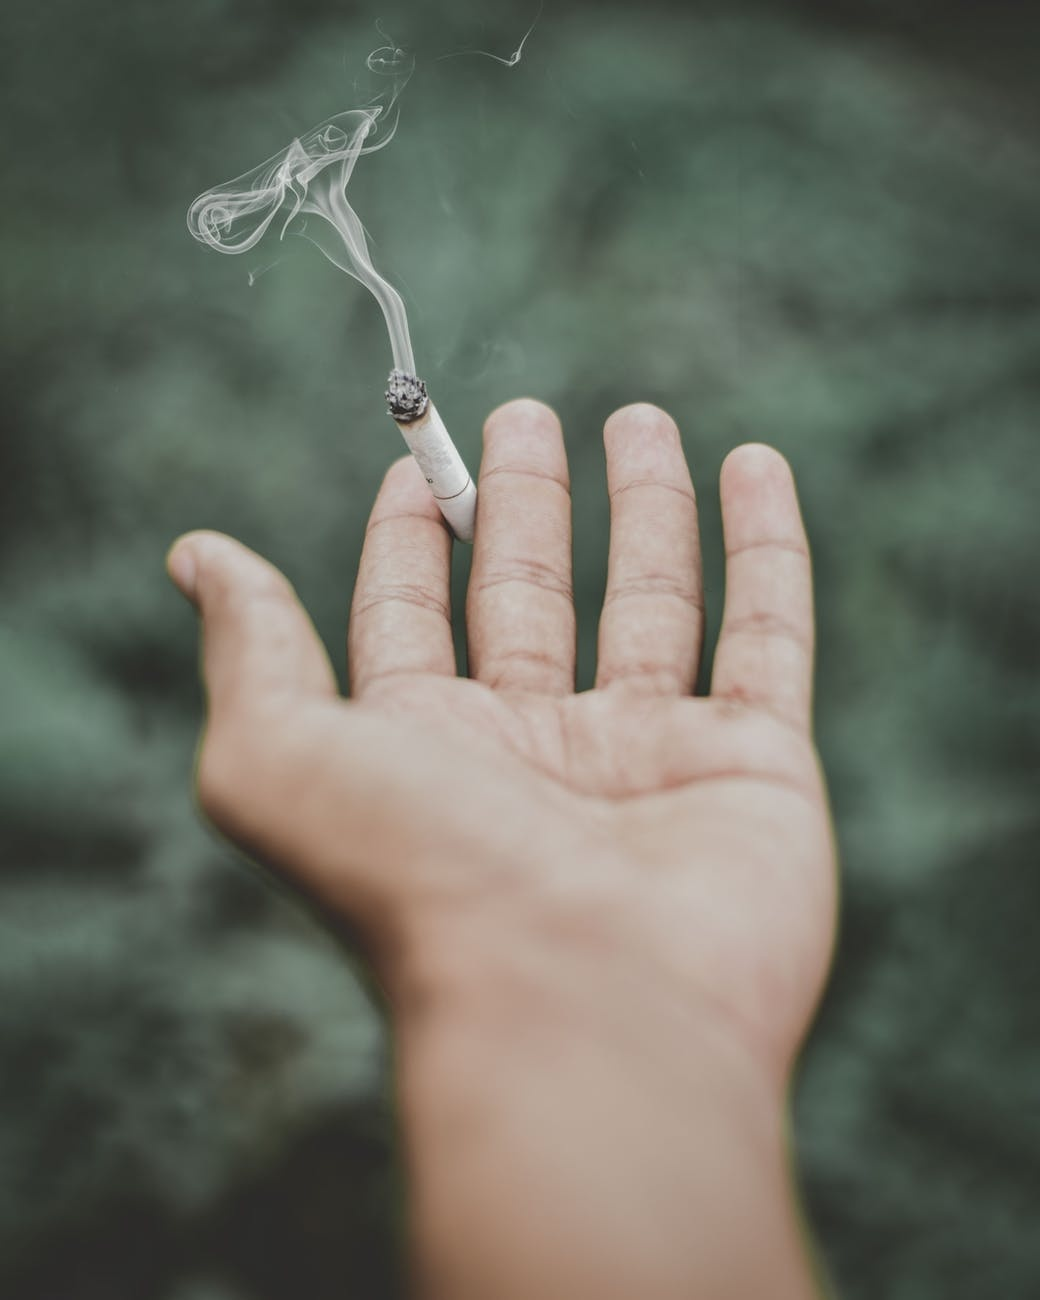sigaretta: (383, 370, 491, 542)
